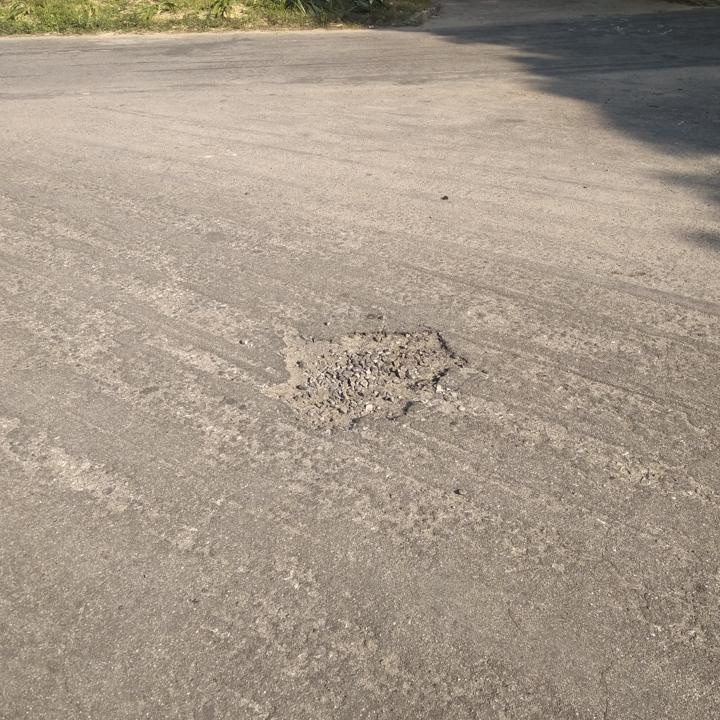pothole: (258, 321, 472, 433)
